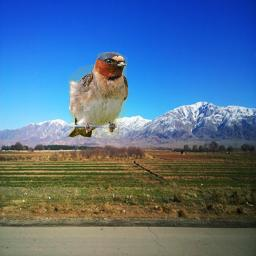Swallow: (67, 52, 130, 138)
